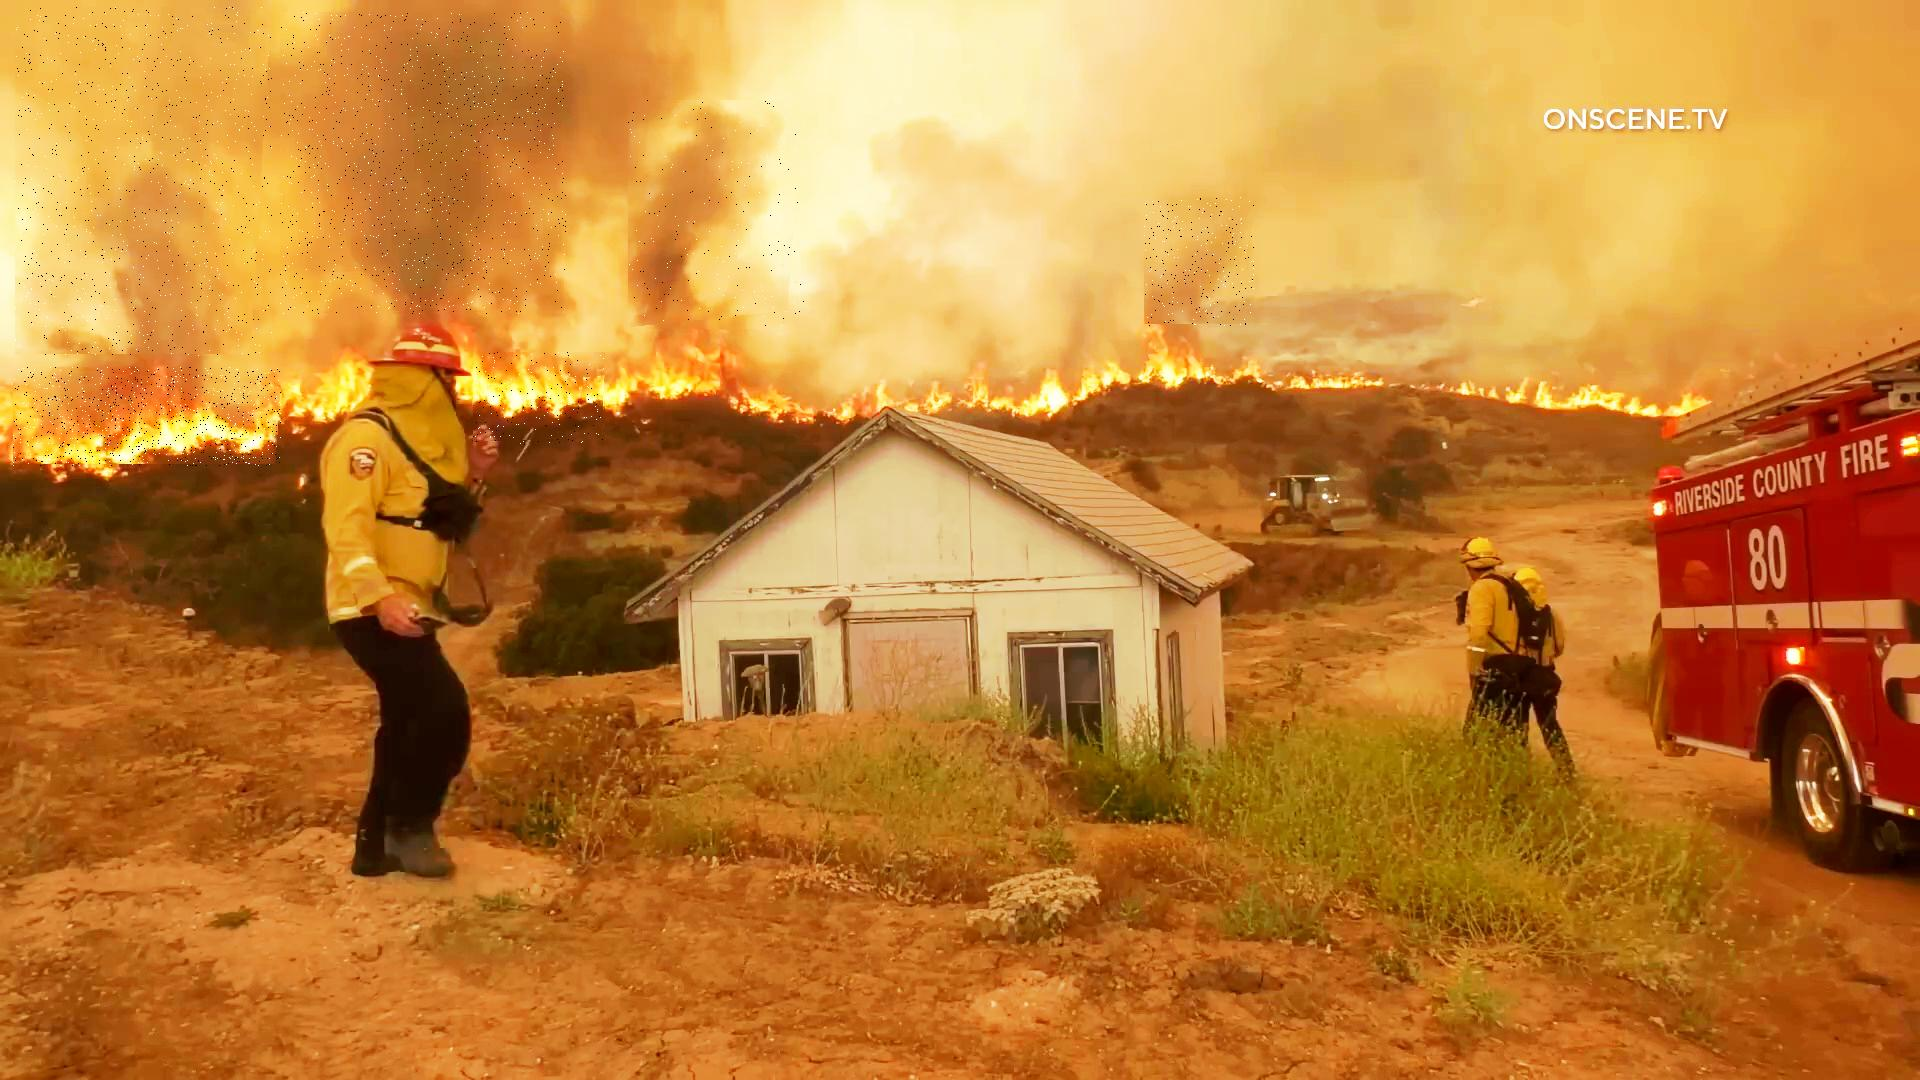fire: (13, 368, 281, 467), (473, 353, 605, 444)
smoke: (16, 8, 273, 357), (281, 13, 567, 315), (629, 100, 806, 328), (1145, 198, 1255, 327)
